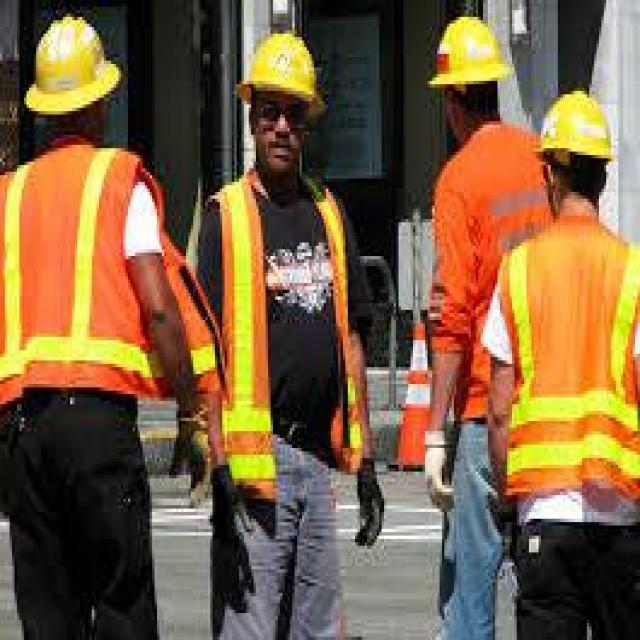reflective_jacket: (193, 168, 369, 505), (2, 134, 168, 438), (490, 212, 639, 535), (415, 124, 550, 421)
safety_helmet: (14, 13, 130, 127), (227, 20, 335, 121), (529, 80, 623, 175), (422, 10, 516, 101)
